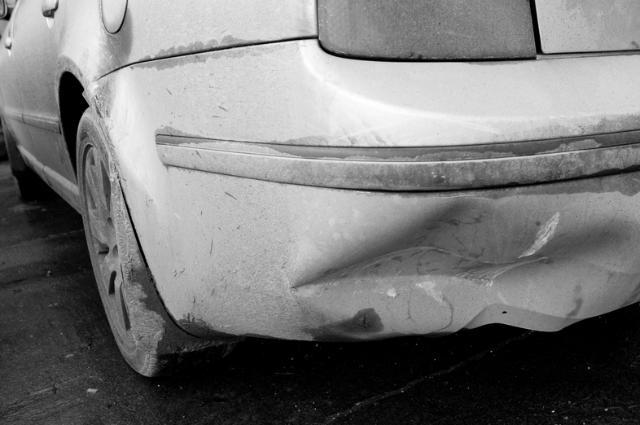Bumper: (138, 78, 640, 364)
